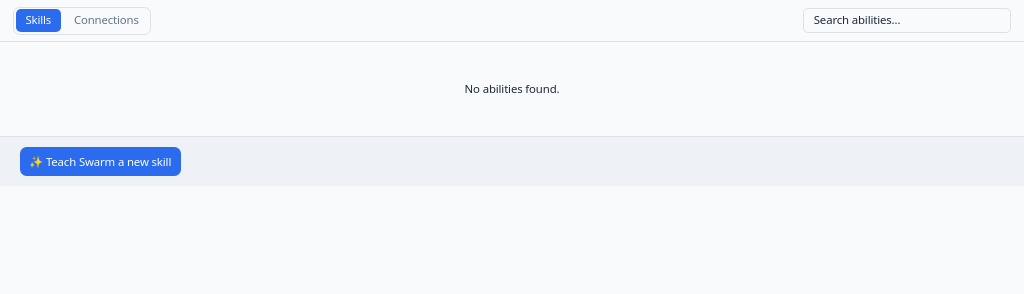
CapabilitiesContent — Connections registry honesty (run_3989a574) › shows the load-timing tier marker per row (always ⚡ / ondemand 💤 / channel 📡)
Click the button with test id "cap-view-connections" at (106, 20), box [64,9,148,32]
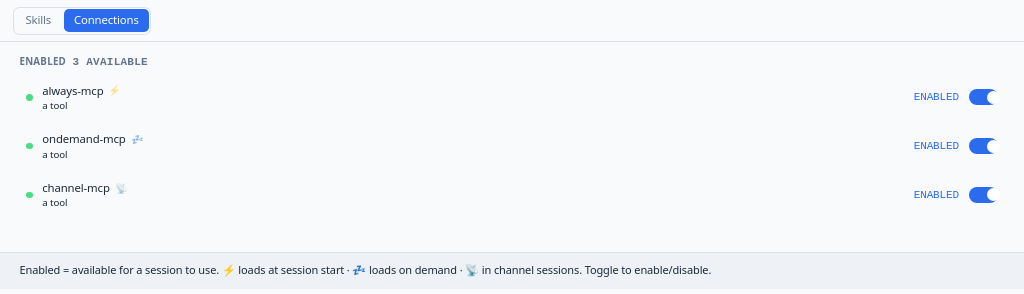
Expected: the element with test id "cap-connections-view" is shown, [20,55,1004,219]
Expected: the text with test id "cap-conn-tier-always-mcp" reads "⚡", [108,83,120,97]
Expected: the text with test id "cap-conn-tier-ondemand-mcp" reads "💤", [131,132,142,146]
